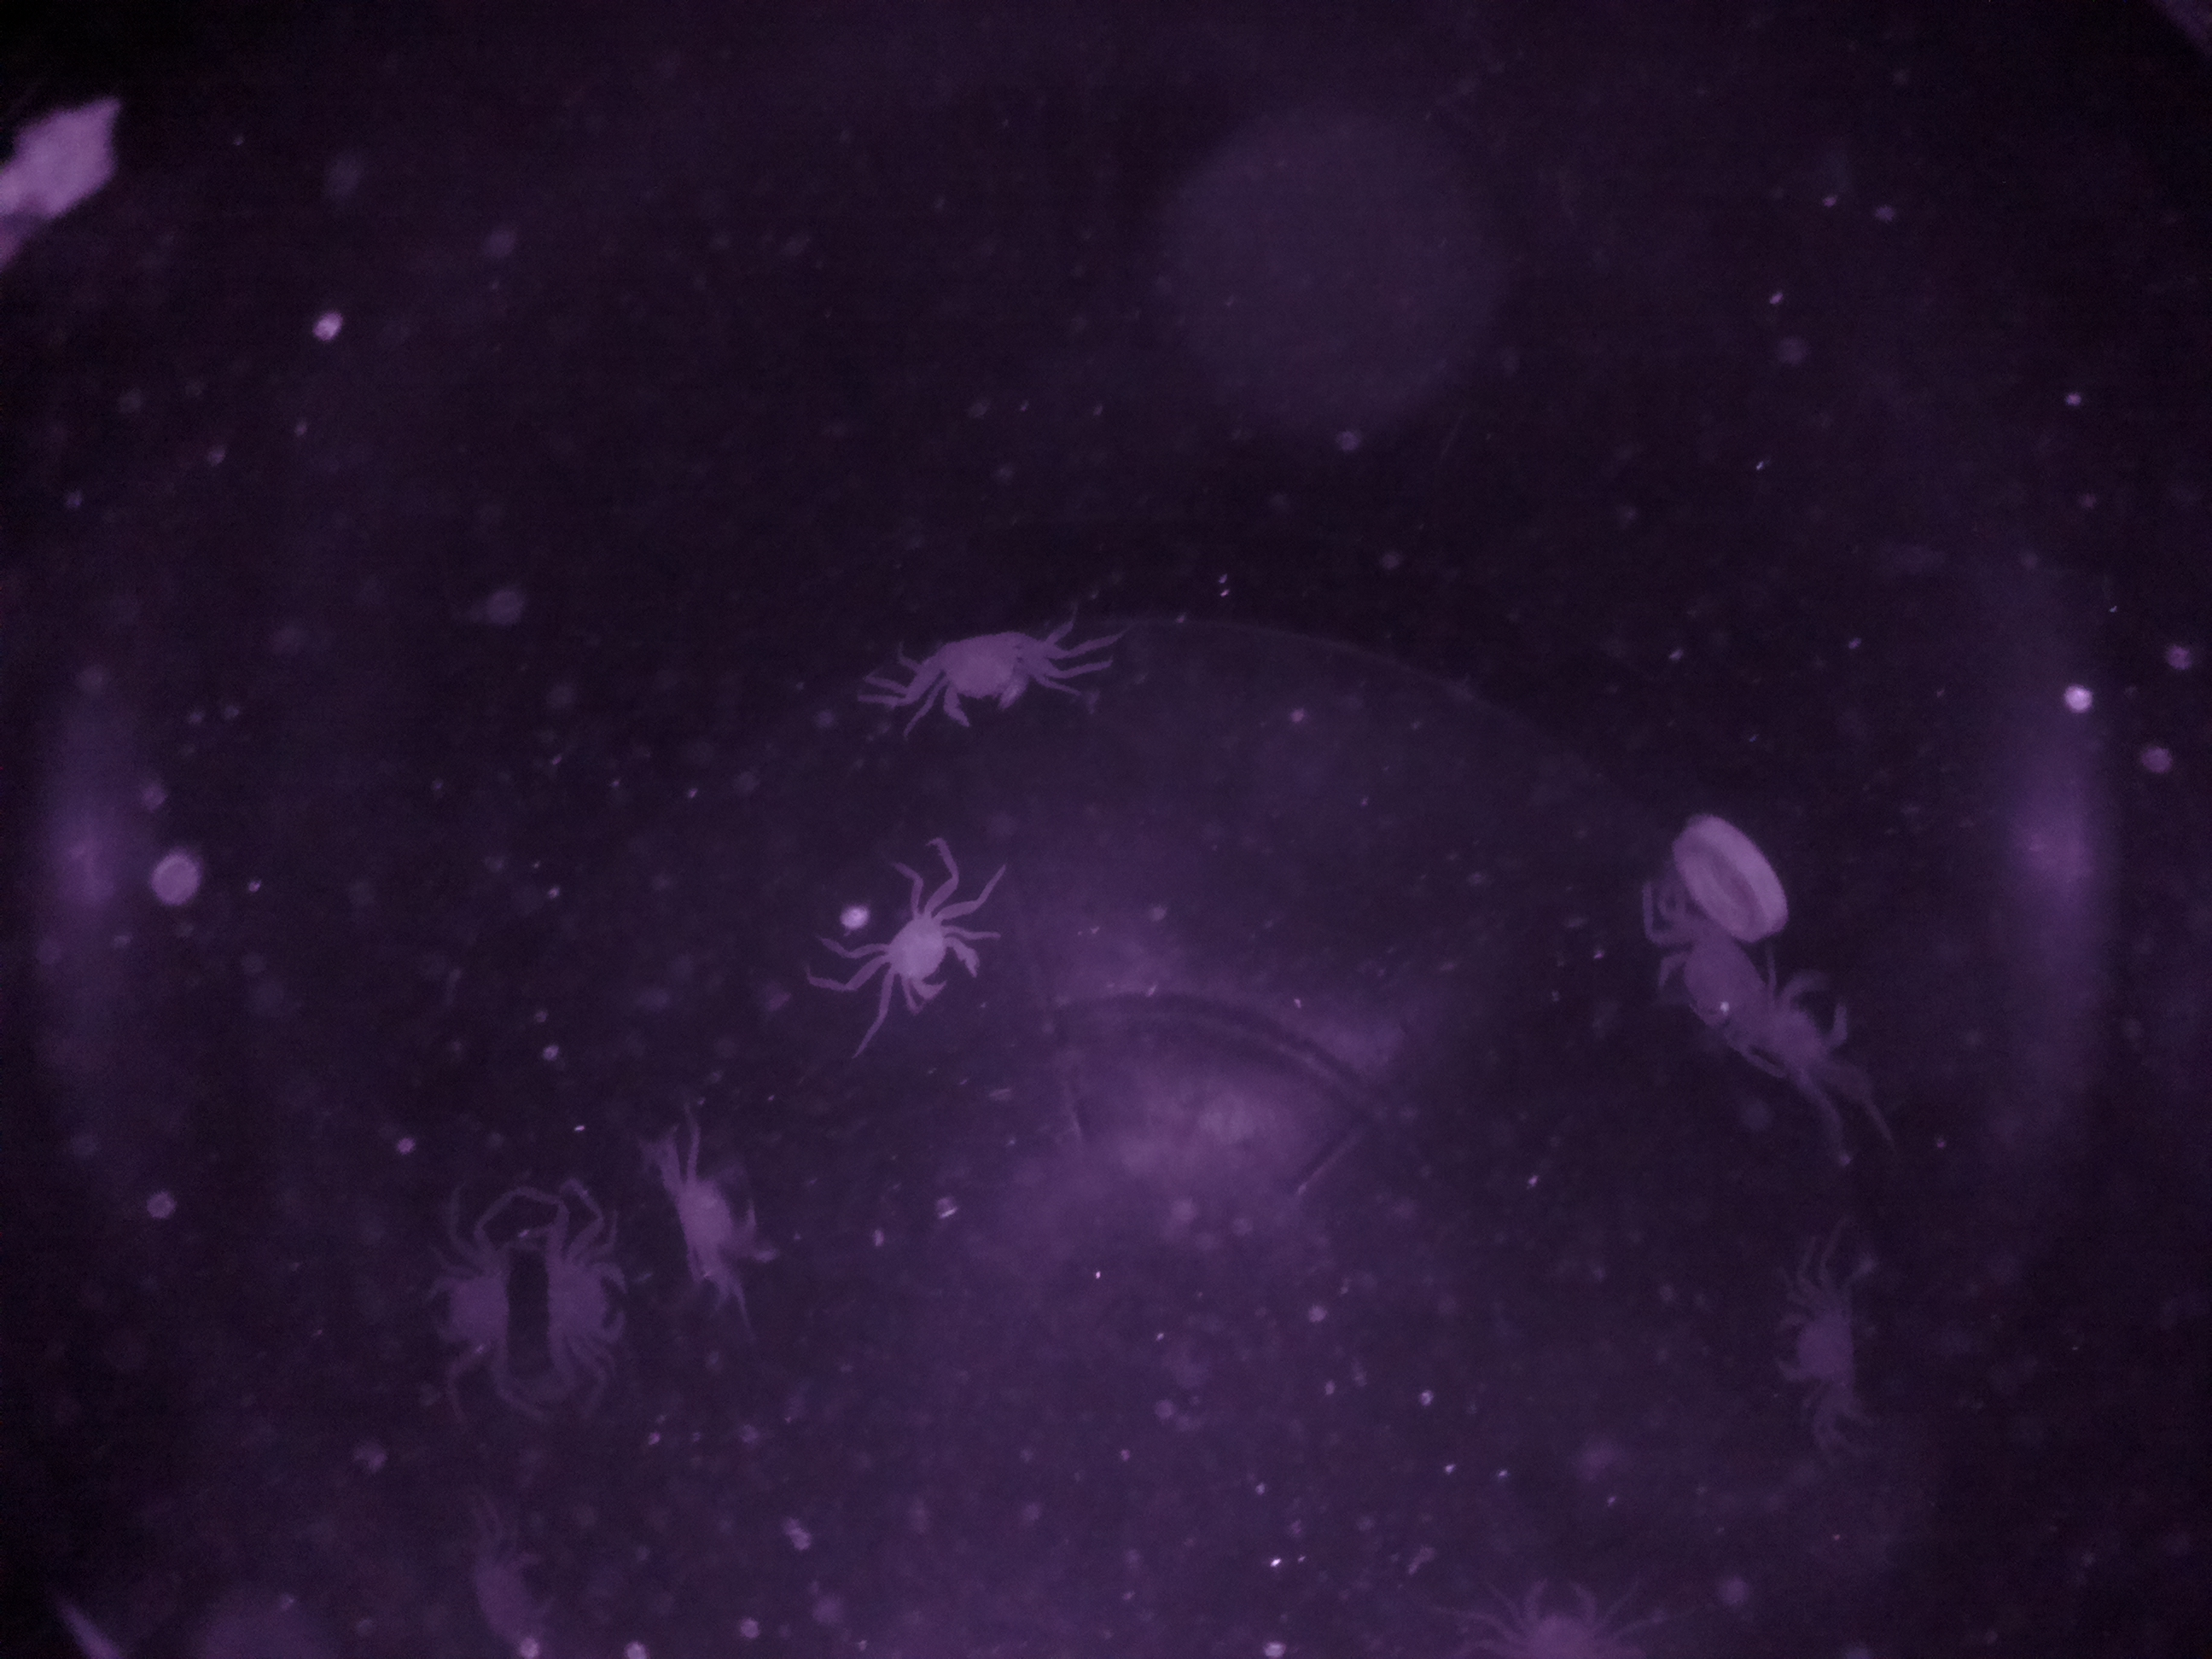Crab: (887, 599, 1073, 751), (646, 1134, 779, 1297), (862, 875, 998, 1030), (413, 1232, 528, 1399), (528, 1220, 643, 1385)
